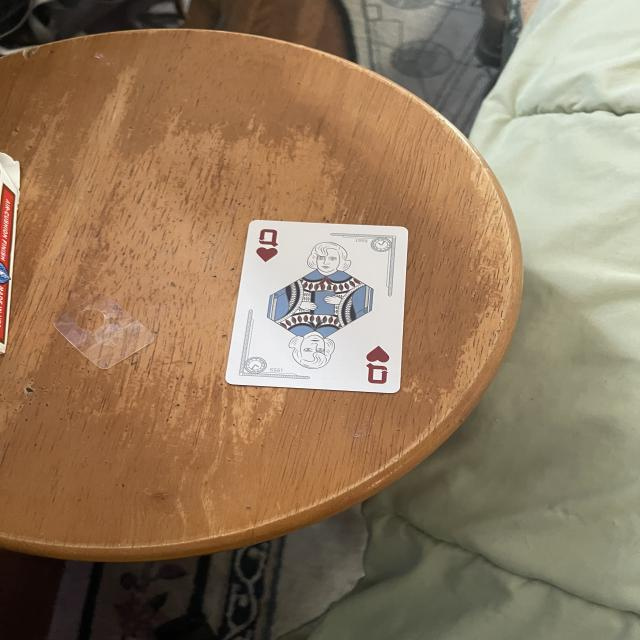Queen of hearts: (226, 220, 410, 394)
